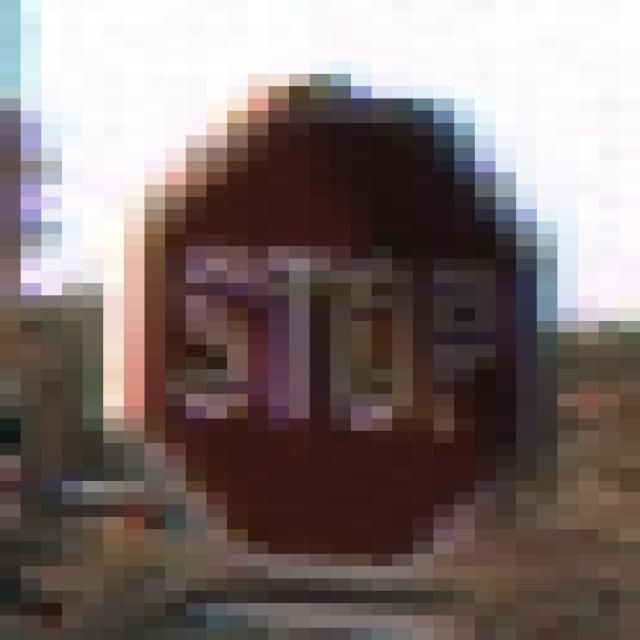STOP: (104, 63, 538, 580)
